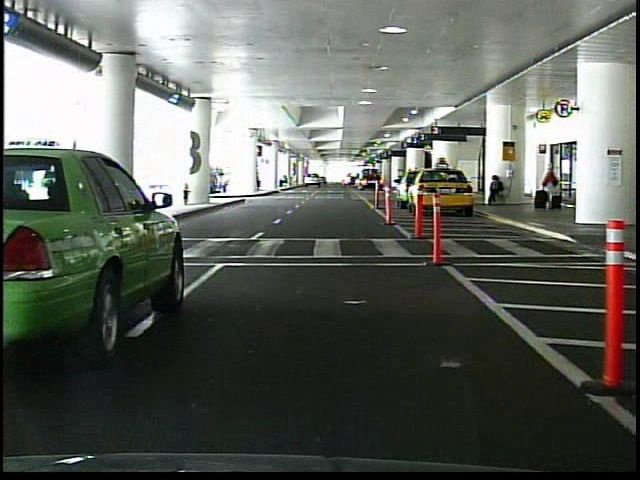person: (65, 148, 89, 226), (543, 162, 563, 211), (485, 173, 506, 206)
